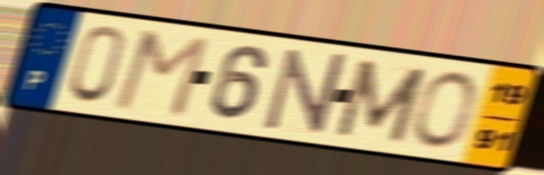0: (68, 23, 129, 106)
6: (208, 43, 270, 124)
M: (109, 27, 214, 121), (330, 56, 431, 147)
N: (261, 47, 349, 137)
O: (409, 68, 480, 152)
